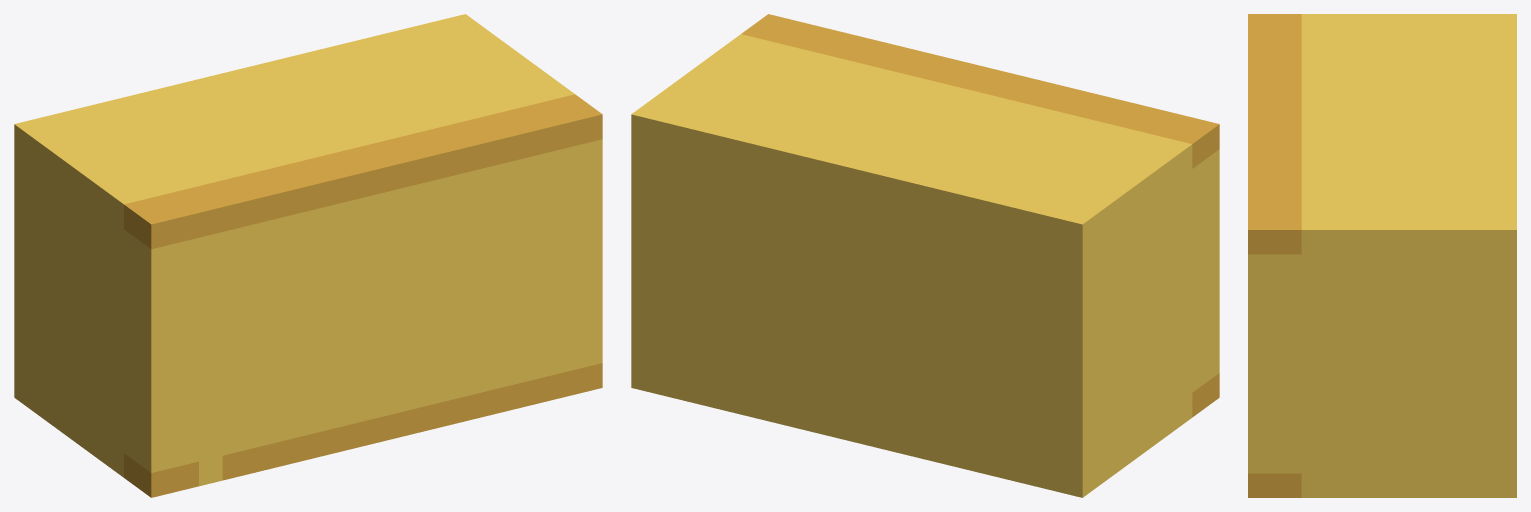
Rendered from shanti8.obj.
3 renders of one model, left to right at view 1: azimuth 30°, elevation 25°; view 2: azimuth 150°, elevation 25°; view 3: azimuth 270°, elevation 25°, orthographic. The views are drawn at different scales.
Bounding box in the file's own units: 19 × 11 × 10.
1 material, 1 textured.
